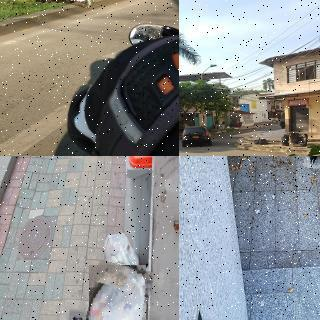Garbage: (84, 262, 150, 320), (104, 231, 142, 272), (289, 133, 308, 147), (280, 133, 294, 146), (305, 156, 320, 168), (258, 138, 268, 145), (254, 138, 261, 144)
